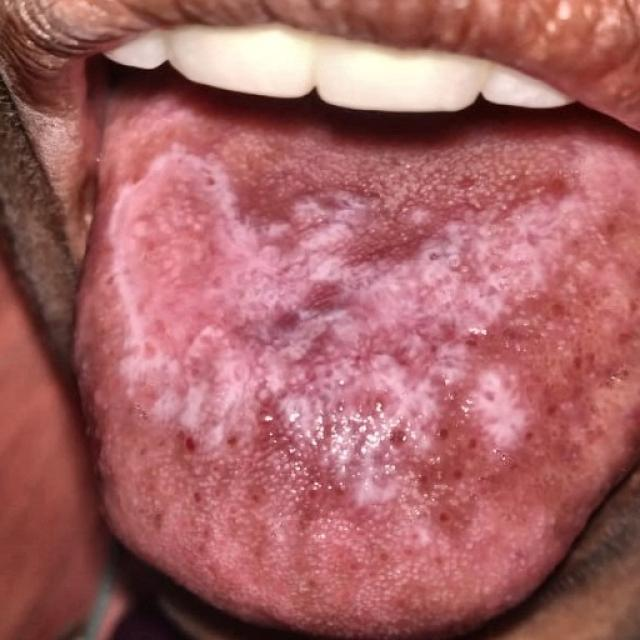leukoplakia-like-detection: (94, 133, 639, 535)
processing_area: (73, 103, 639, 639)
